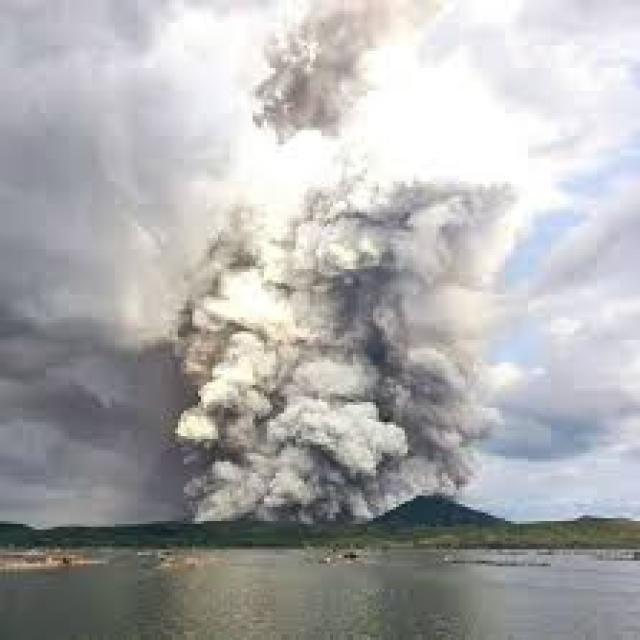explosion: (161, 3, 548, 526)
